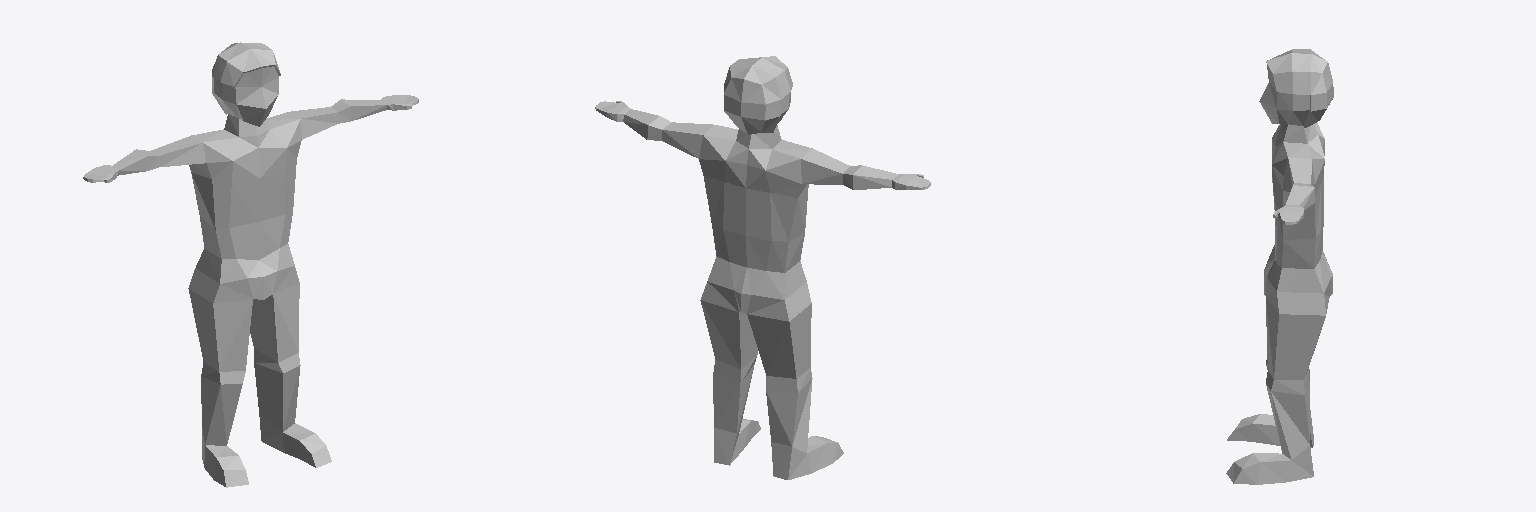
Rendered from Syrianv2.obj.
3 views of the same model, side by side, from view 1: azimuth 30°, elevation 25°; view 2: azimuth 150°, elevation 25°; view 3: azimuth 270°, elevation 25° (orthographic).
Parts seen in each view (by area): view 1: body_Cube, hair_Cube.001; view 2: body_Cube, hair_Cube.001; view 3: body_Cube, hair_Cube.001.
Part boxes in pixels (x1,y1,x2,y2): body_Cube: (83, 66, 418, 487); hair_Cube.001: (212, 42, 280, 114); body_Cube: (595, 92, 930, 479); hair_Cube.001: (724, 56, 792, 134); body_Cube: (1226, 65, 1332, 484); hair_Cube.001: (1266, 49, 1333, 127).
Bounding box in the file's own units: 13.34 × 15.61 × 3.75.